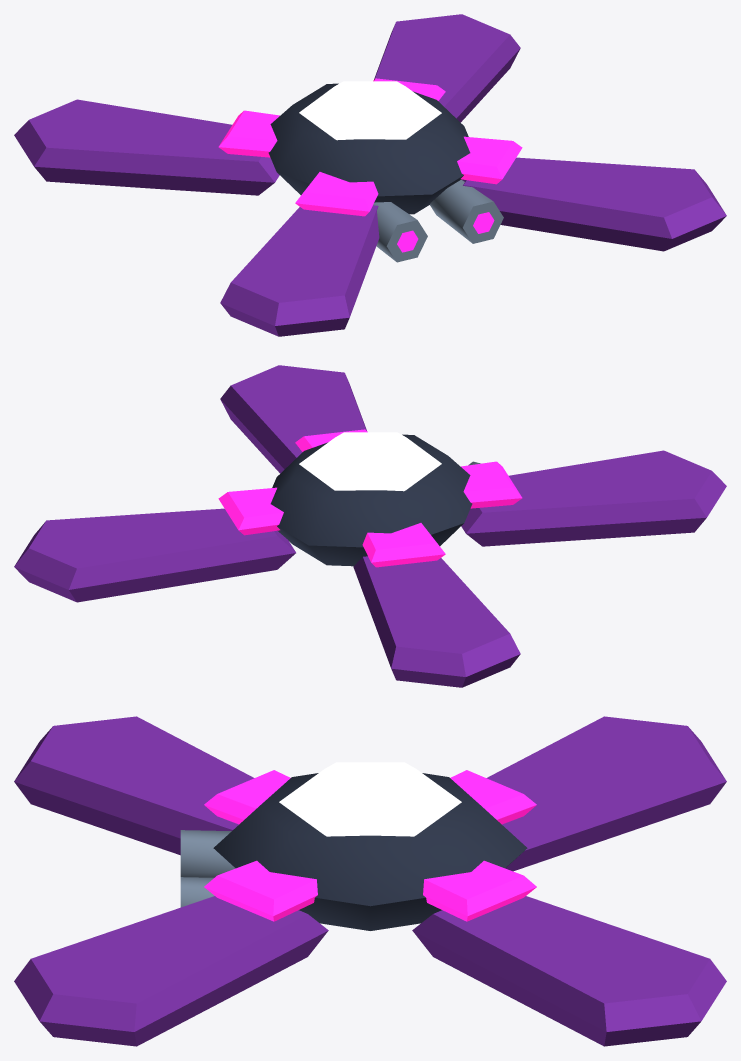
File: boss_tempest_mockup.glb
The picture shows the model from 3 angles, top to bottom: view 1: azimuth 30°, elevation 25°; view 2: azimuth 150°, elevation 25°; view 3: azimuth 270°, elevation 25°; orthographic projection. The views are drawn at different scales.
Parts seen in each view (by area): view 1: BOSS // TEMPEST FORK; view 2: BOSS // TEMPEST FORK; view 3: BOSS // TEMPEST FORK.
Boxes of the visible parts, x1=… form: BOSS // TEMPEST FORK: x1=14, y1=14, x2=726, y2=336; BOSS // TEMPEST FORK: x1=14, y1=365, x2=726, y2=687; BOSS // TEMPEST FORK: x1=14, y1=716, x2=726, y2=1046.
Size of the model in its own units: 9.58 by 1.78 by 9.58.
